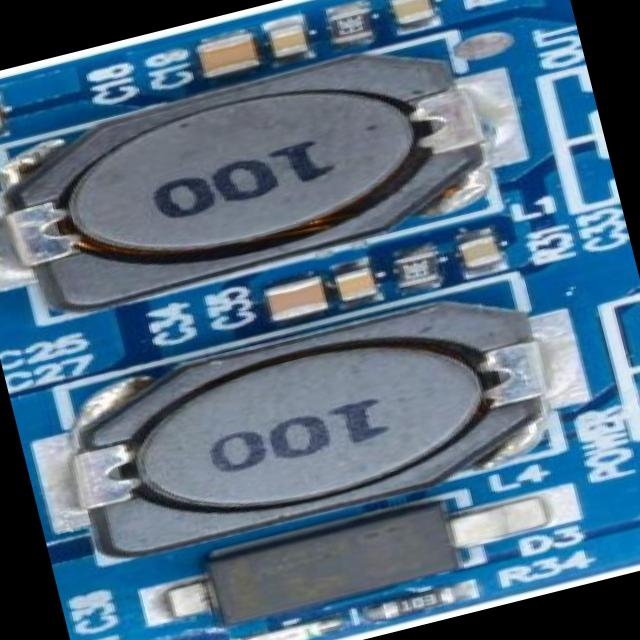LED: (218, 616, 342, 640)
capacitor: (244, 271, 339, 335), (456, 224, 534, 276), (201, 31, 270, 83), (326, 261, 383, 308), (264, 12, 318, 60), (389, 0, 453, 32), (0, 90, 21, 144)
diode: (151, 482, 513, 640)
resistor: (372, 583, 468, 629), (319, 0, 387, 44), (394, 248, 444, 288)
